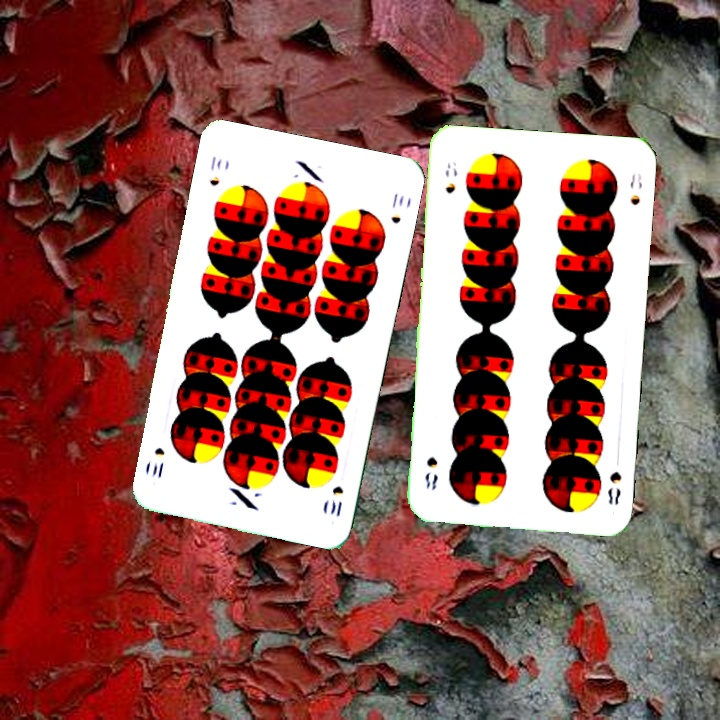S10: (326, 481, 346, 520), (205, 152, 224, 189)
S8: (604, 467, 624, 507), (441, 158, 460, 196)
